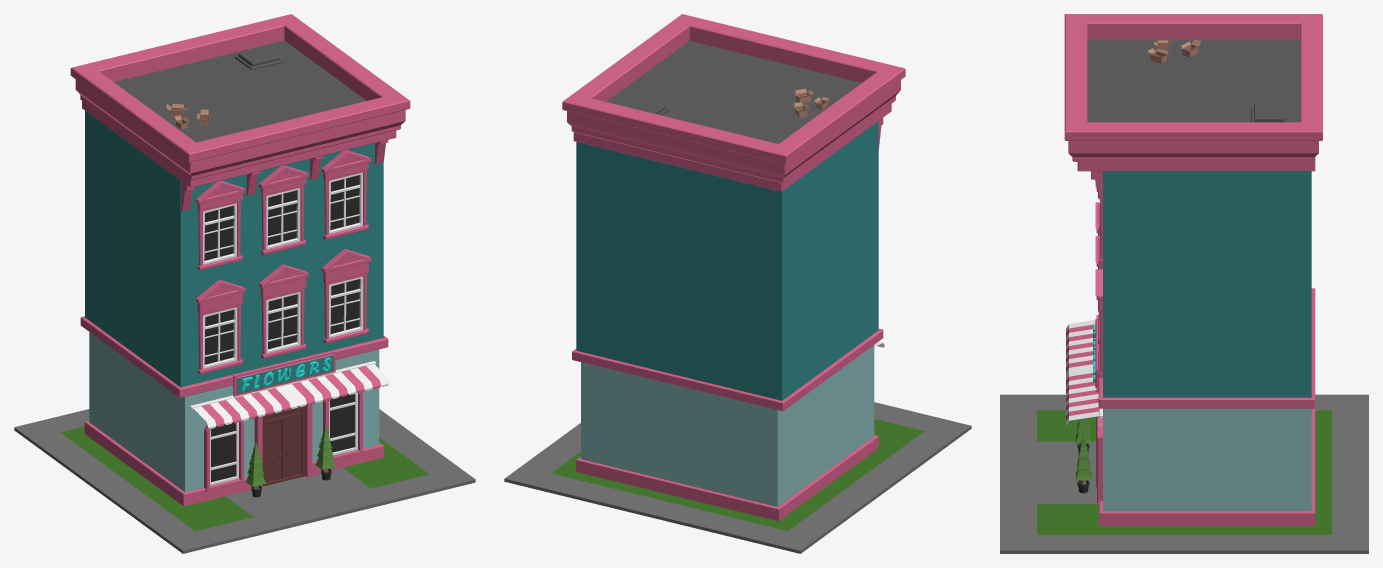
3 views of the same model, side by side, from view 1: azimuth 30°, elevation 25°; view 2: azimuth 150°, elevation 25°; view 3: azimuth 270°, elevation 25° (orthographic). The views are drawn at different scales.
Visible parts, largest first — view 1: flowers.001; view 2: flowers.001; view 3: flowers.001.
Boxes of the visible parts, x1,y1,x2,y2 form: flowers.001: [14, 14, 475, 553]; flowers.001: [504, 14, 971, 553]; flowers.001: [1000, 14, 1368, 553].
Size of the model in its own units: 10 by 12.07 by 10.
Materials: 1 (1 with a texture image).
